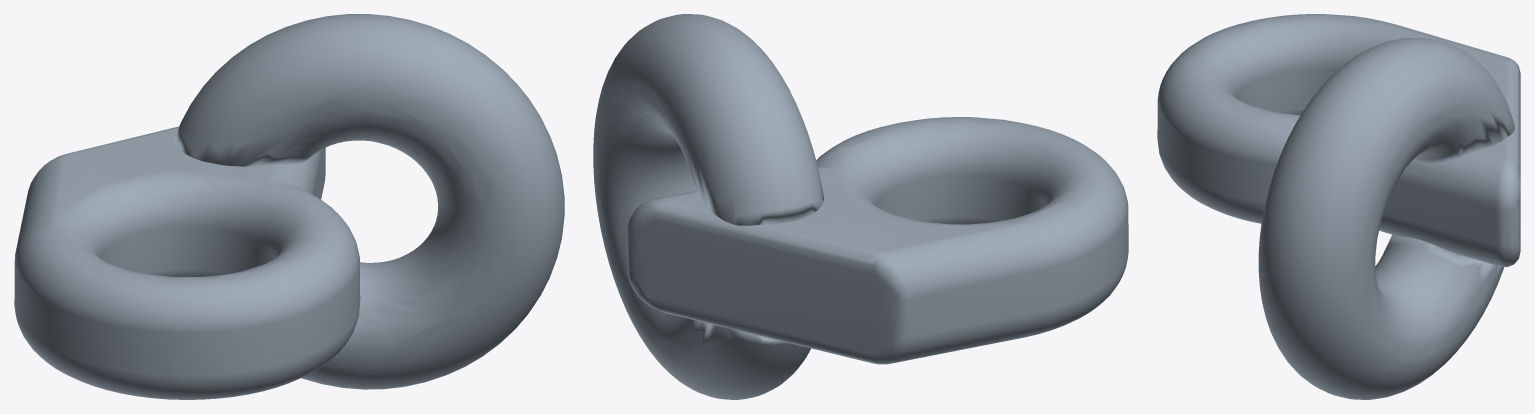
Rendered from 2e8804d2-18b4-45b2-92f9-7f4d01bea99d.glb.
3 renders of one model, left to right at view 1: azimuth 30°, elevation 25°; view 2: azimuth 150°, elevation 25°; view 3: azimuth 270°, elevation 25°, orthographic. The views are drawn at different scales.
Size of the model in its own units: 14.17 by 9.51 by 9.33.
